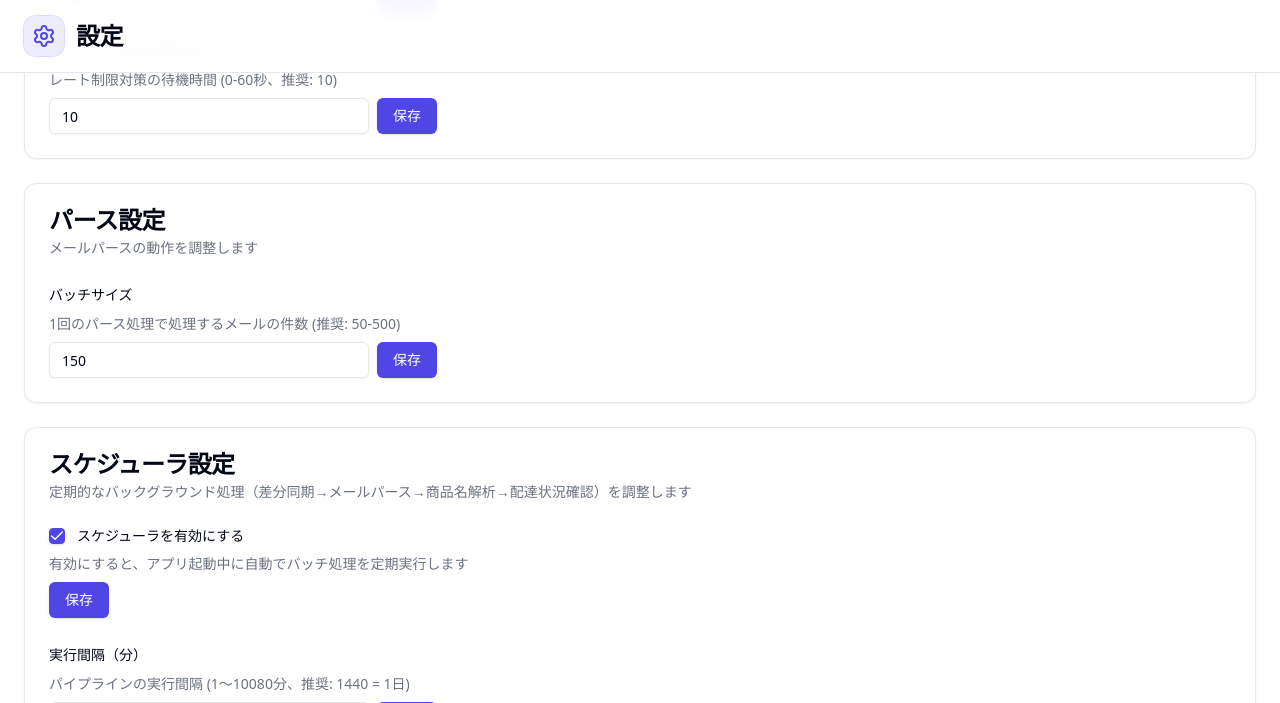
Test: Settings › handleSaveParseBatchSize › handles parse batch size update error
(page scrolled)
Expected: the number field labelled "バッチサイズ" holds "150", [49,342,369,378]
Click the button with aria-label "パースバッチサイズを保存" at (407, 360), box [377,342,437,378]
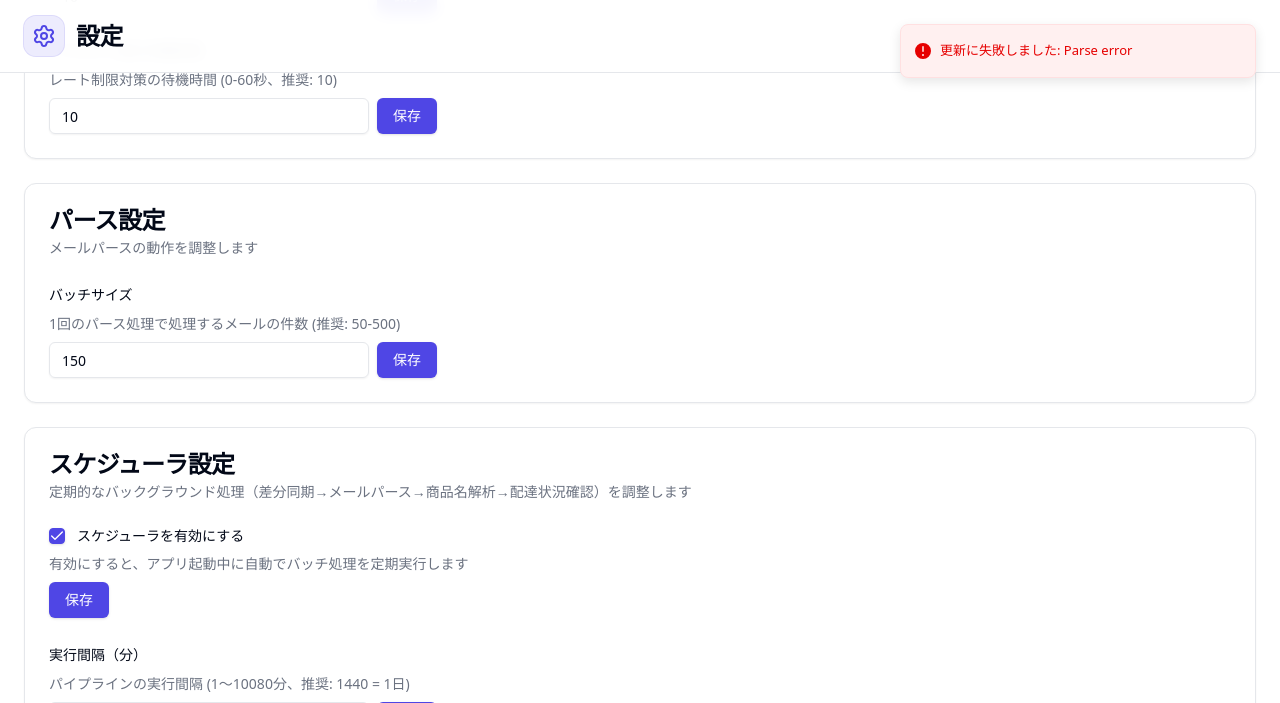
Expected: the text "更新に失敗しました: Parse error" is shown, [940,41,1132,60]
